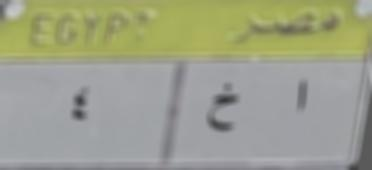4: (64, 83, 98, 126)
alif: (282, 70, 316, 122)
khaa: (203, 79, 242, 138)
